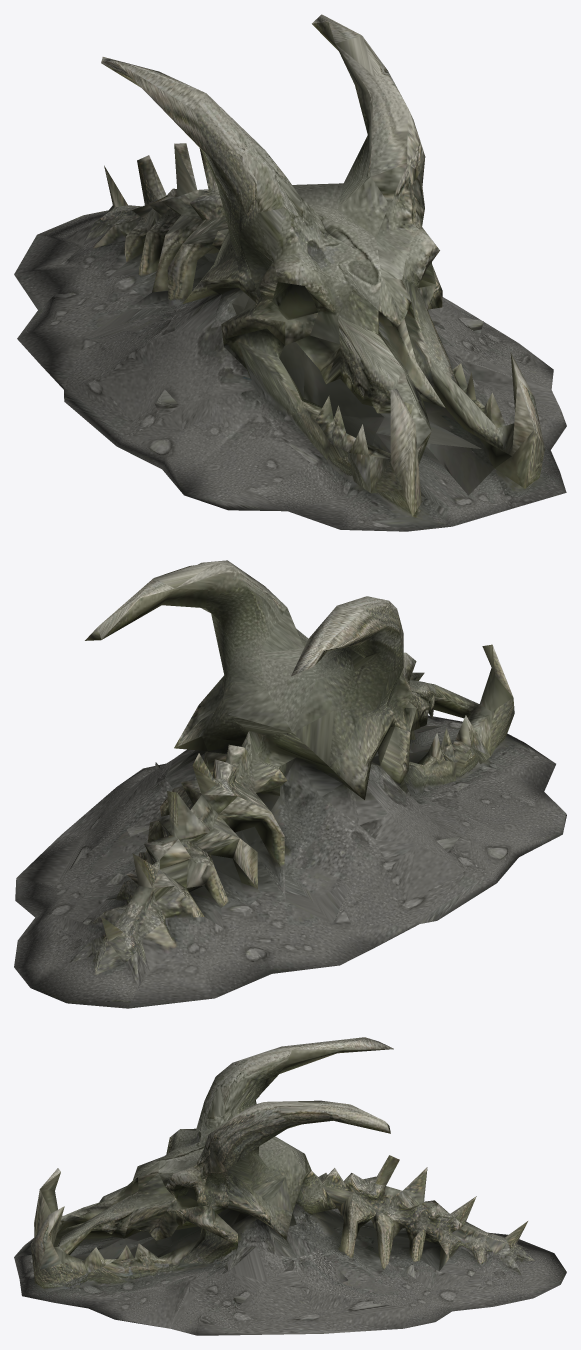
Rendered from mythosaur_skull.glb.
3 renders of one model, top to bottom at view 1: azimuth 30°, elevation 25°; view 2: azimuth 150°, elevation 25°; view 3: azimuth 270°, elevation 25°, orthographic. The views are drawn at different scales.
Size of the model in its own units: 0.5705 by 0.3926 by 1.
1 material, 1 textured.
